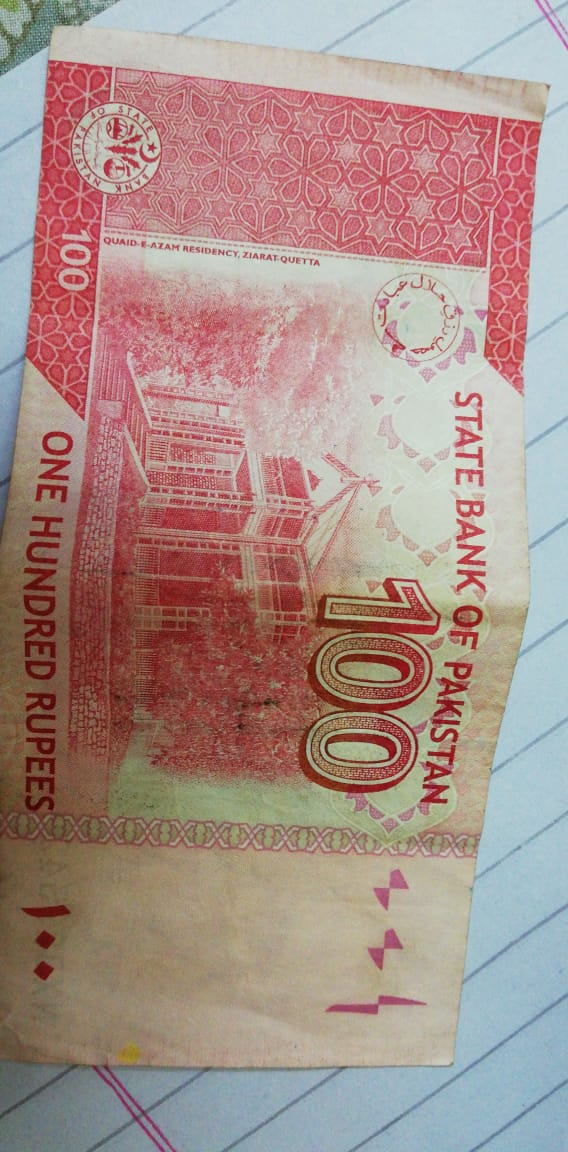100 rupee: (7, 20, 534, 1071)
